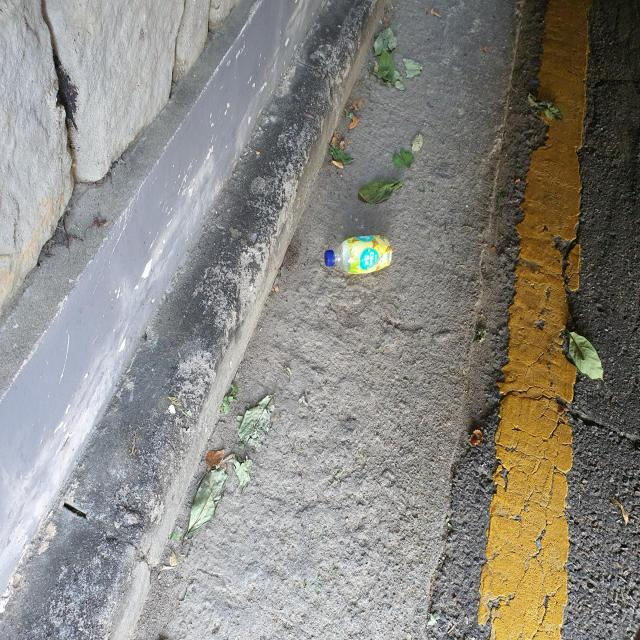plastic: (324, 234, 392, 274)
